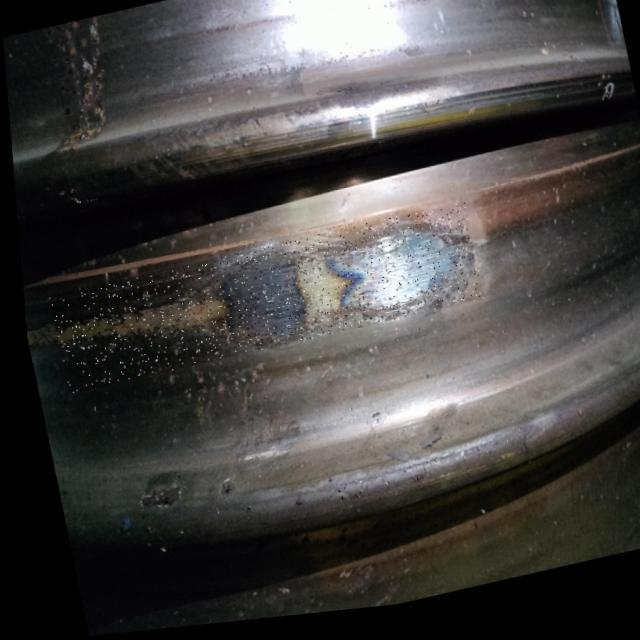flat: (43, 210, 485, 396)
